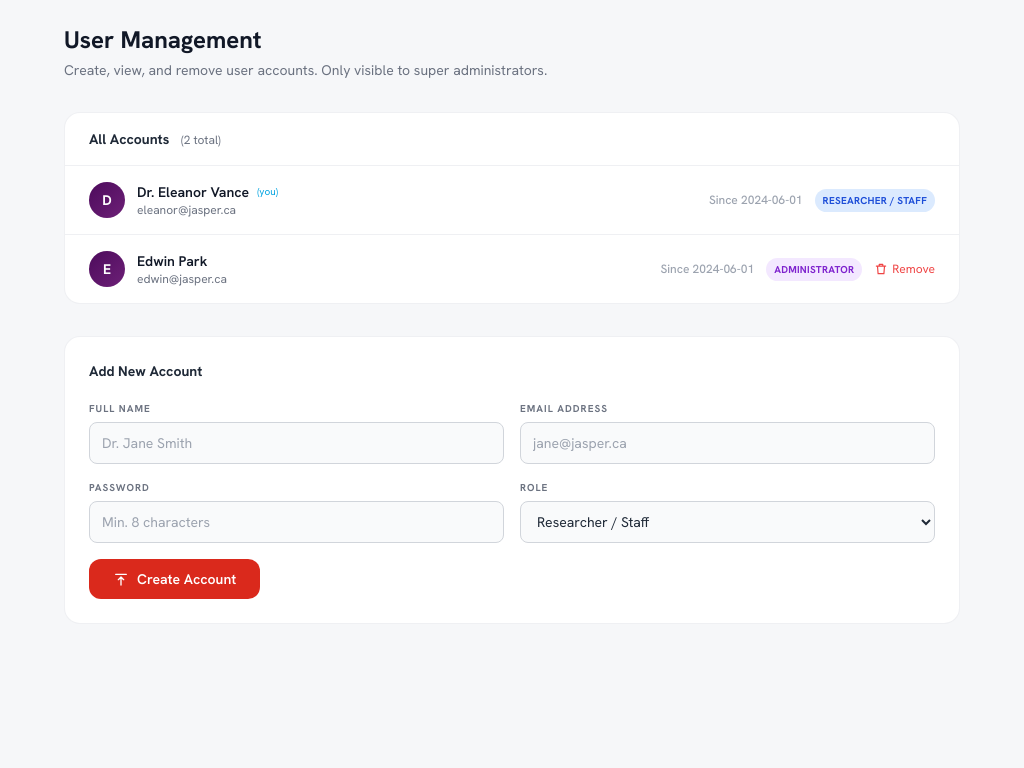
Test: shows a validation error when password is too short
The width and height of the screenshot is (1024, 768).
Step 1. Type "Test User" into the field with placeholder "Dr. Jane Smith" → (296, 443), box top-left (89, 422), bottom-right (504, 464)
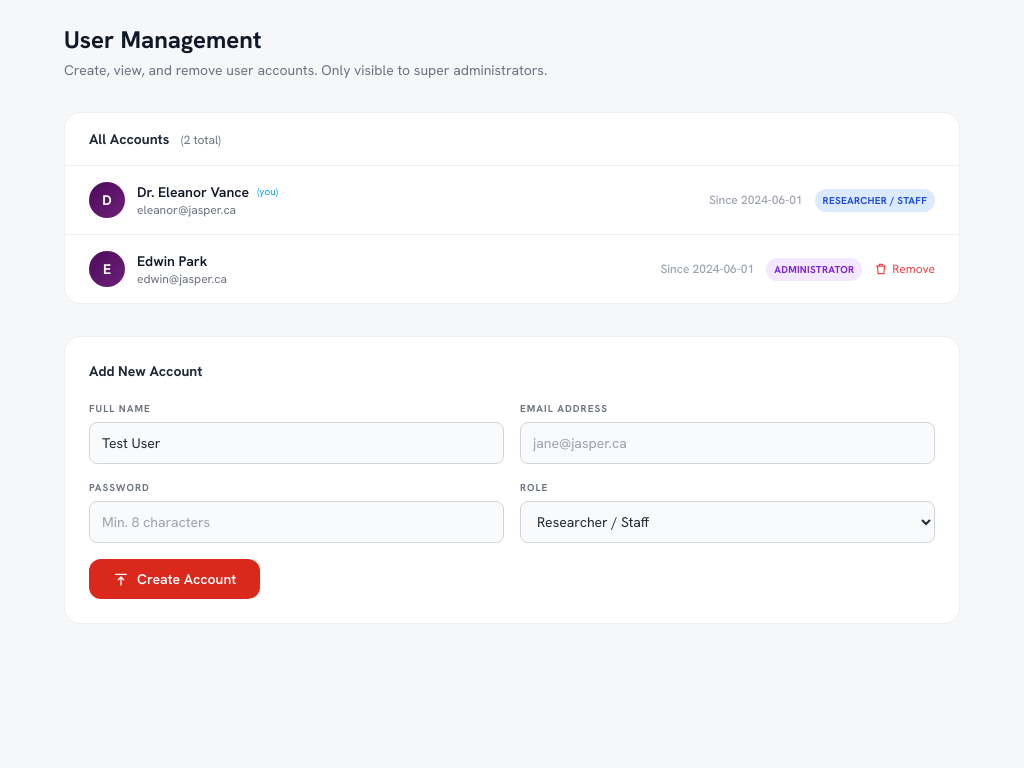
Step 2. Type "test@jasper.ca" into the field with placeholder "jane@jasper.ca" → (728, 443), box top-left (520, 422), bottom-right (935, 464)
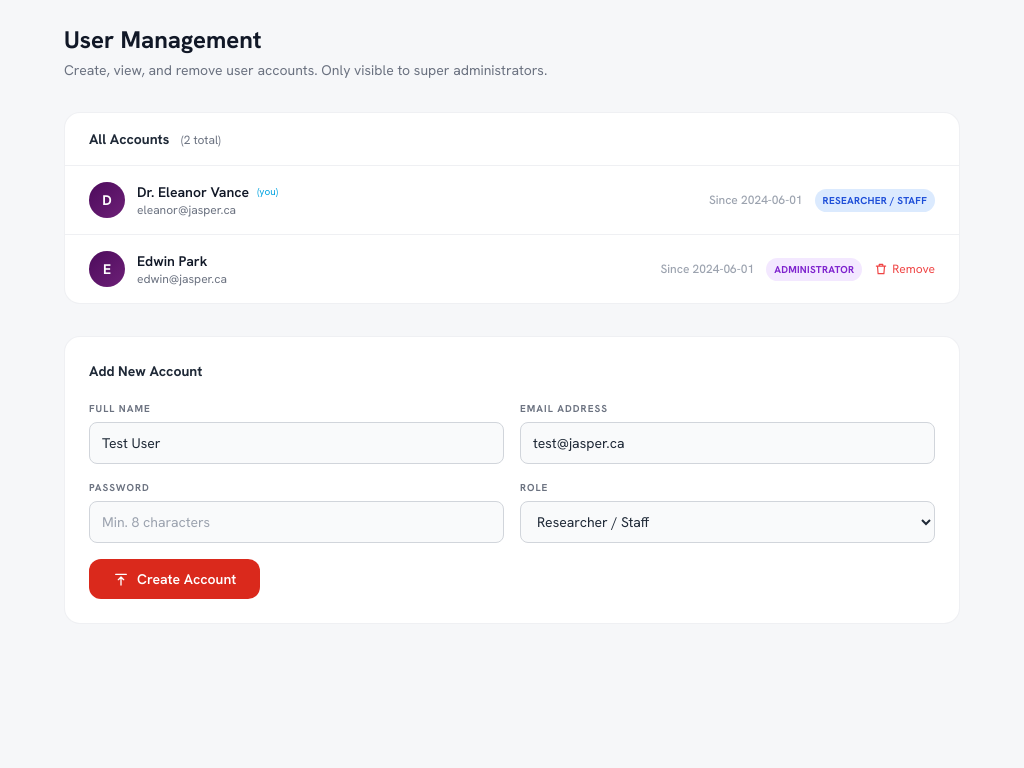
Step 3. Type "short" into the password field with placeholder "Min. 8 characters" → (296, 522), box top-left (89, 501), bottom-right (504, 543)
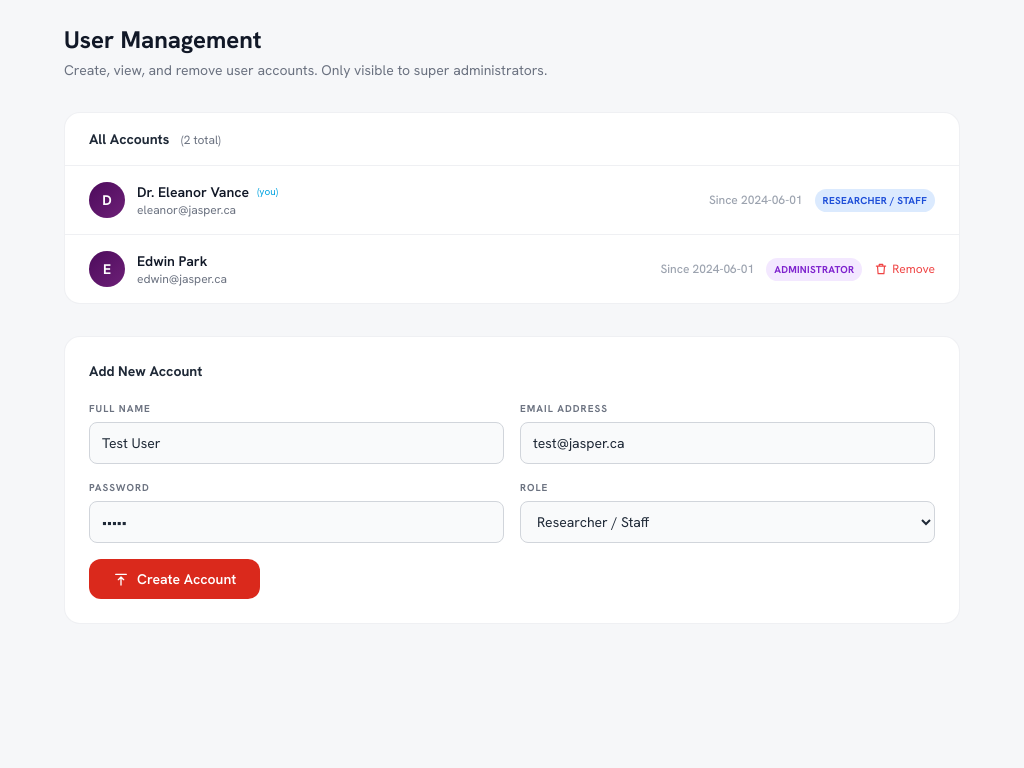
Step 4. Click the button "Create Account" → (175, 579), box top-left (89, 559), bottom-right (260, 599)
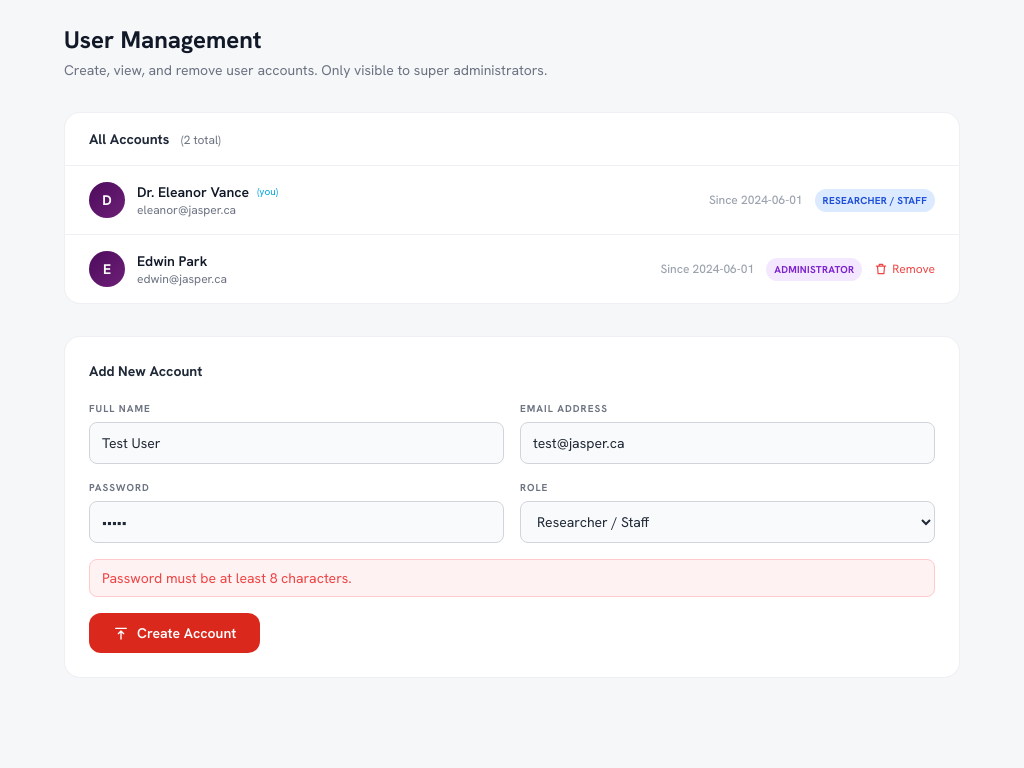
Expected: the text "Password must be at least 8 characters." is shown, top-left (89, 559), bottom-right (935, 597)
